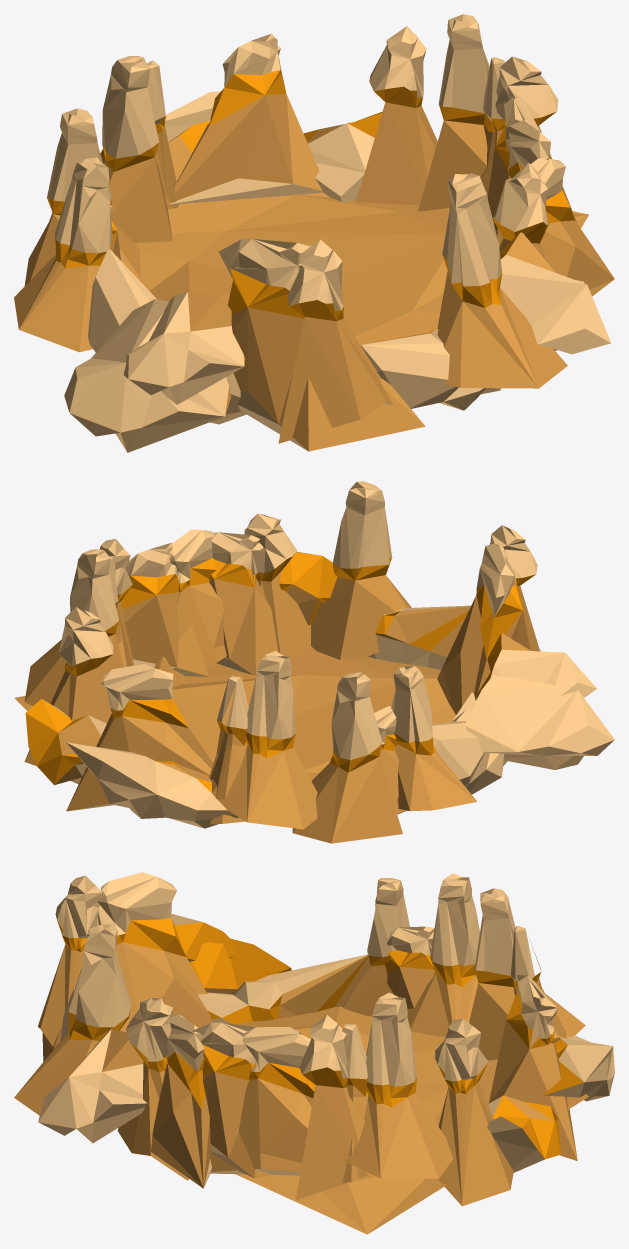
The model's file is StoneMesaValley.glb.
3 views of the same model, one above another, from view 1: azimuth 30°, elevation 25°; view 2: azimuth 150°, elevation 25°; view 3: azimuth 270°, elevation 25° (orthographic). The views are drawn at different scales.
Parts seen in each view (by area): view 1: group1342283763, group803469184, group1002078838, group685379310, group530912564, group1573812667, group1269480674, group1245808583, group1155583789, group262344061, group2137800924, group1607749428 (+12 smaller); view 2: group1342283763, group1002078838, group1245808583, group821746976, group1573812667, group685379310, group1785216804, group803469184, group1114165445, group346161035, group1269480674, group480296111 (+12 smaller); view 3: group2137800924, group1342283763, group803469184, group1114165445, group1155583789, group1002078838, group275226938, group1607749428, group685379310, group821746976, group346161035, group452618970 (+12 smaller).
Part boxes in pixels (box(x1,y1,x2,y2)): group1342283763: box(134, 192, 588, 345); group803469184: box(219, 239, 425, 451); group1002078838: box(437, 173, 567, 388); group685379310: box(169, 34, 323, 204); group530912564: box(278, 239, 393, 443); group1573812667: box(64, 299, 231, 452); group1269480674: box(14, 157, 112, 352); group1245808583: box(49, 56, 172, 242); group1155583789: box(356, 26, 437, 205); group262344061: box(123, 291, 245, 404); group2137800924: box(418, 14, 489, 211); group1607749428: box(500, 232, 610, 354); group1342283763: box(14, 648, 455, 780); group1002078838: box(311, 481, 411, 659); group1245808583: box(211, 651, 317, 829); group821746976: box(292, 672, 402, 843); group1573812667: box(465, 671, 614, 769); group685379310: box(66, 664, 213, 811); group1785216804: box(66, 742, 238, 828); group803469184: box(437, 543, 540, 714); group1114165445: box(121, 542, 208, 676); group346161035: box(209, 532, 278, 675); group1269480674: box(391, 666, 477, 811); group480296111: box(154, 529, 226, 686); group2137800924: box(344, 992, 453, 1178); group1342283763: box(235, 1006, 588, 1234); group803469184: box(42, 872, 212, 1061); group1114165445: box(210, 1027, 315, 1175); group1155583789: box(435, 1018, 513, 1206); group1002078838: box(14, 924, 131, 1115); group275226938: box(296, 1015, 369, 1200); group1607749428: box(38, 1029, 147, 1143); group685379310: box(488, 975, 577, 1160); group821746976: box(407, 873, 479, 1037); group346161035: box(151, 1014, 211, 1188); group452618970: box(198, 954, 371, 1024).
Size of the model in its own units: 1.07 by 0.4175 by 1.01.
